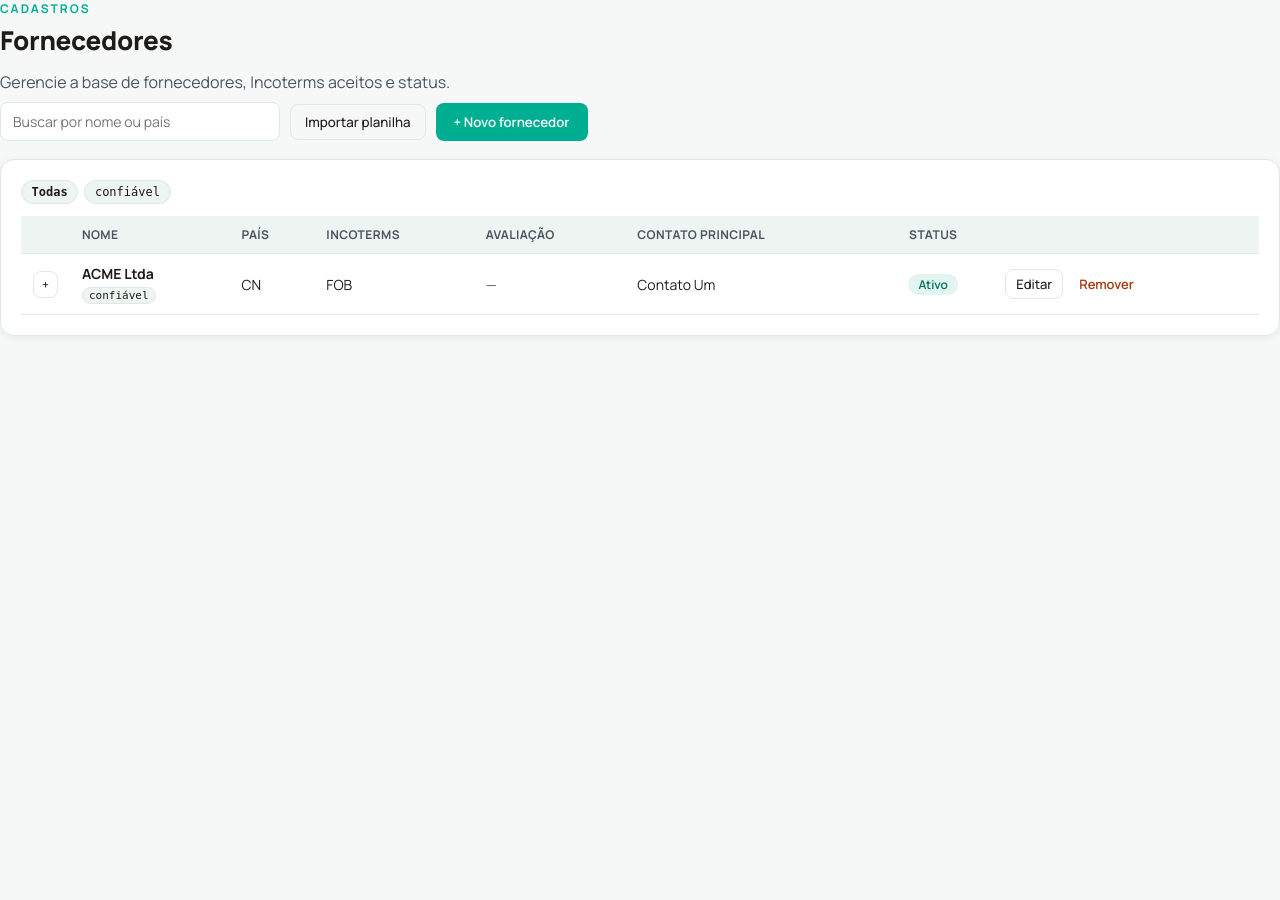
Scenario: Fornecedores › 8. contato — abrir: "+ Adicionar contato" abre índice 0 com o nome real do fornecedor
This screenshot has width=1280, height=900.
Expected: the text "ACME Ltda" is shown, left=82, top=264, right=154, bottom=283
Click the button named "Mostrar contatos" at (45, 284), box left=33, top=270, right=58, bottom=298
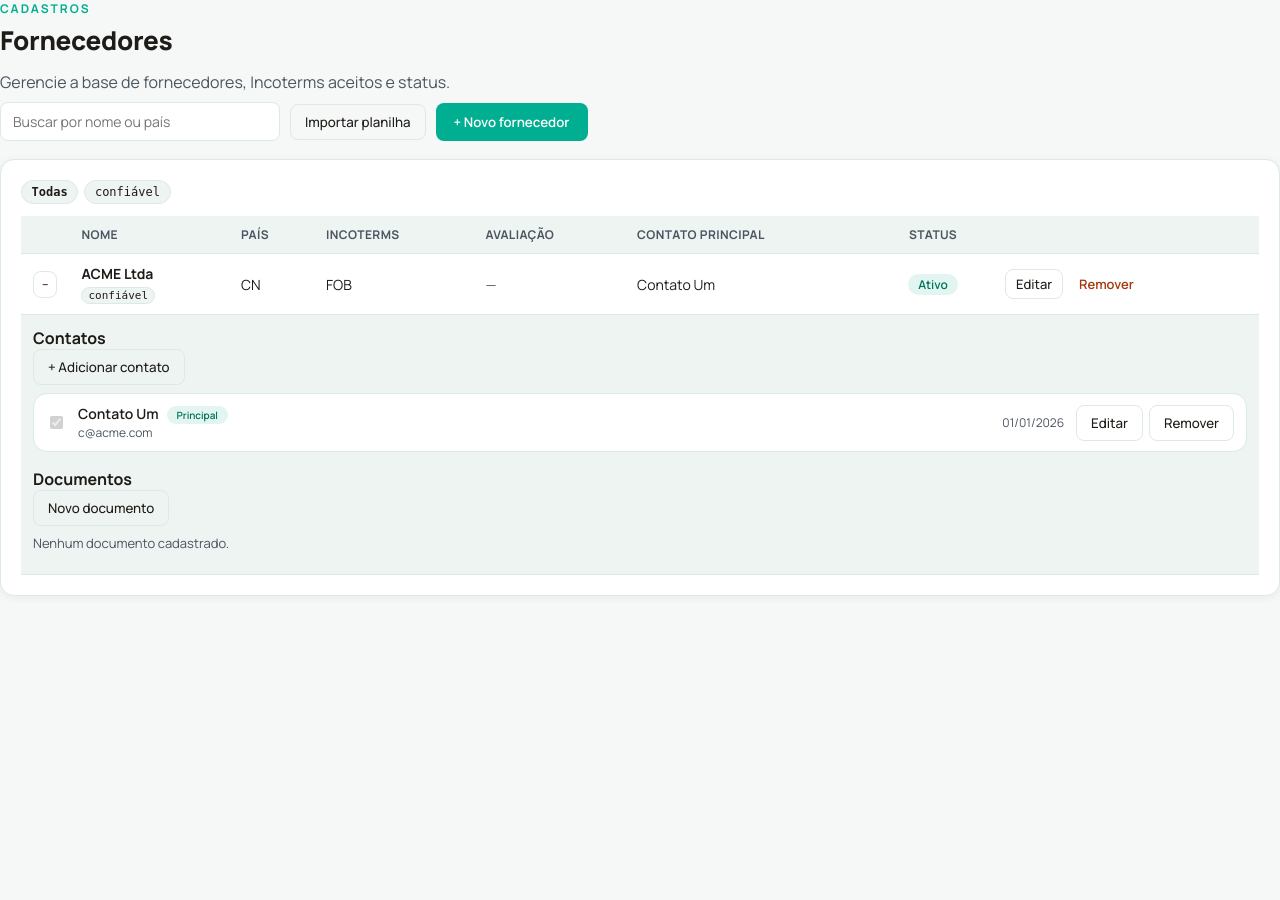
Click the button "+ Adicionar contato" at (109, 367), box left=33, top=349, right=185, bottom=385
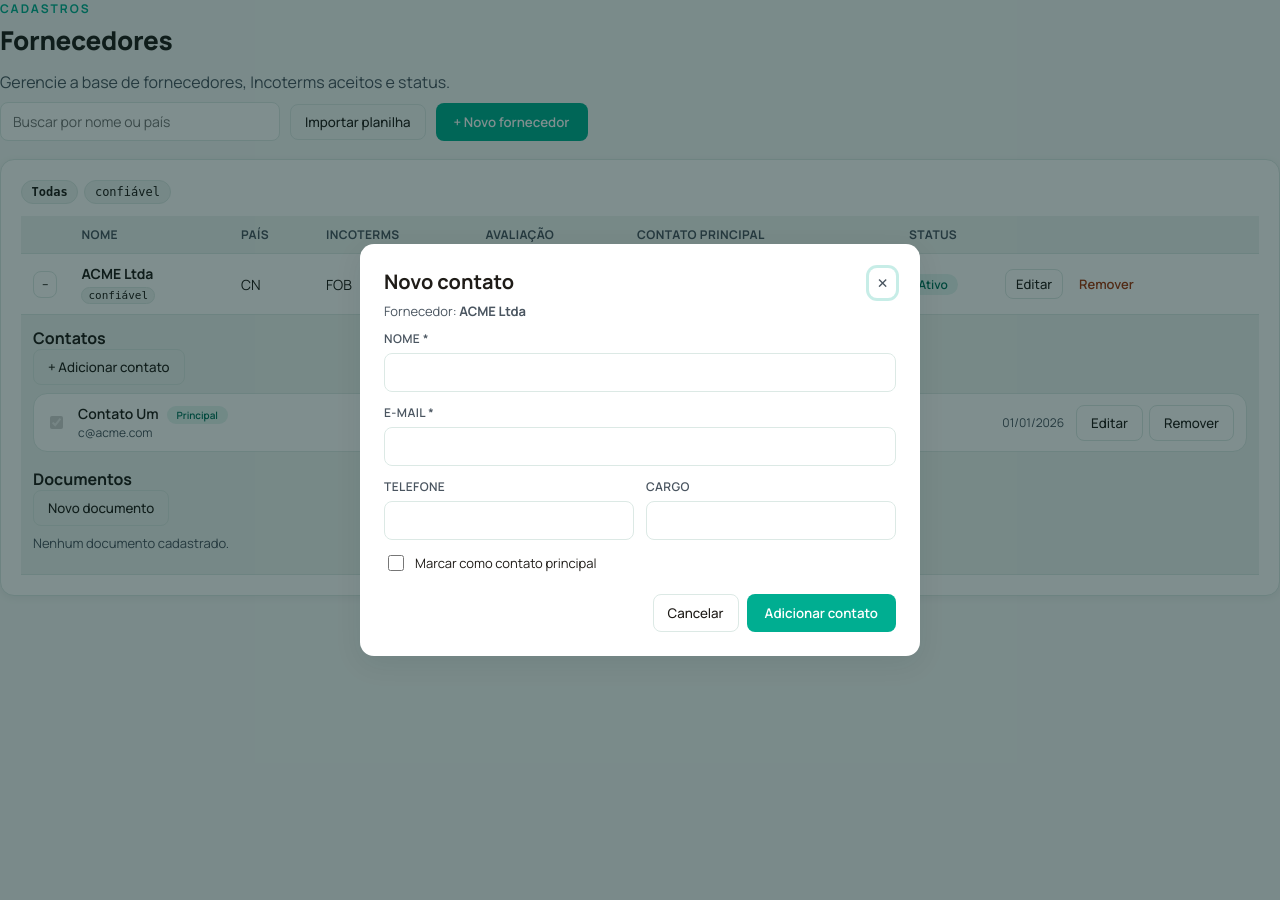
Expected: the heading "Novo contato" is shown, left=384, top=268, right=514, bottom=295
Expected: the element with class "modal-body" shows "ACME Ltda", left=459, top=302, right=526, bottom=320
